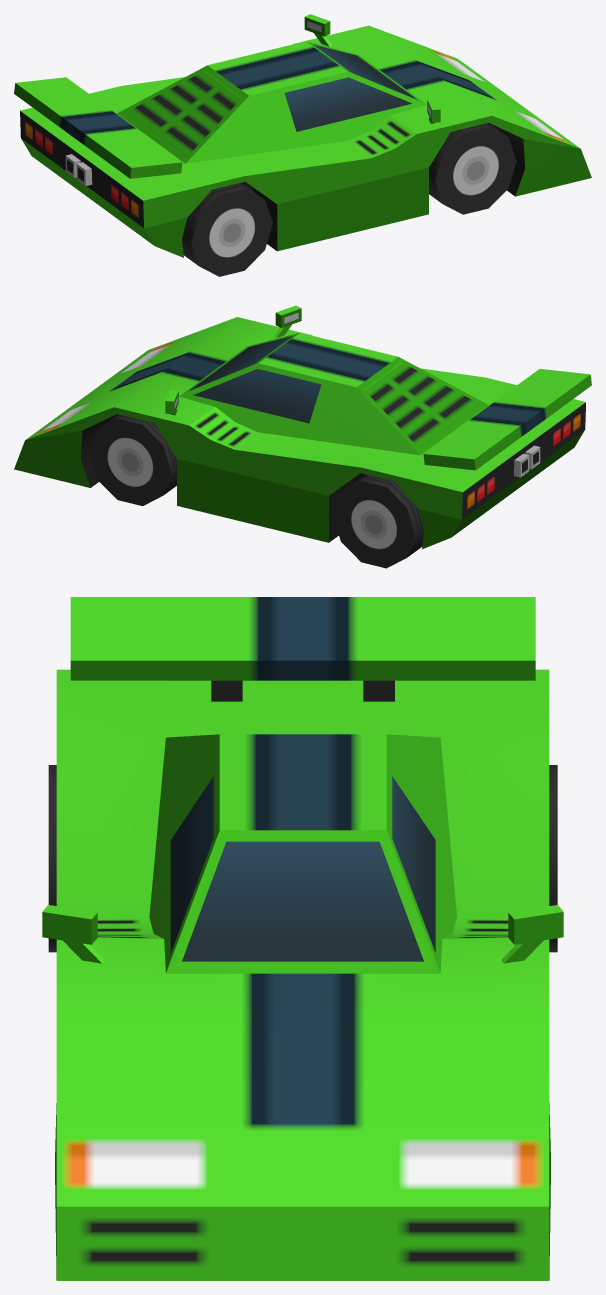
File: Car_243.glb
3 views of the same model, one above another, from view 1: azimuth 30°, elevation 25°; view 2: azimuth 150°, elevation 25°; view 3: azimuth 270°, elevation 25° (orthographic). The views are drawn at different scales.
Parts seen in each view (by area): view 1: Car_243, wheel_3_Car_243_Wheel_2R, wheel_1_Car_243_Wheel_1R; view 2: Car_243, wheel_2_Car_243_Wheel_2L, wheel_0_Car_243_Wheel_1L; view 3: Car_243, wheel_2_Car_243_Wheel_2L, wheel_3_Car_243_Wheel_2R.
Boxes of the visible parts, x1,y1,x2,y2 form: Car_243: [14, 14, 591, 257]; wheel_3_Car_243_Wheel_2R: [182, 183, 272, 276]; wheel_1_Car_243_Wheel_1R: [429, 123, 516, 214]; Car_243: [14, 305, 591, 549]; wheel_2_Car_243_Wheel_2L: [333, 474, 423, 568]; wheel_0_Car_243_Wheel_1L: [89, 414, 176, 505]; Car_243: [42, 597, 563, 1280]; wheel_2_Car_243_Wheel_2L: [549, 765, 557, 952]; wheel_3_Car_243_Wheel_2R: [48, 765, 56, 952].
Bounding box in the file's own units: 3.91 × 1.08 × 1.93.
1 material, 1 textured.
